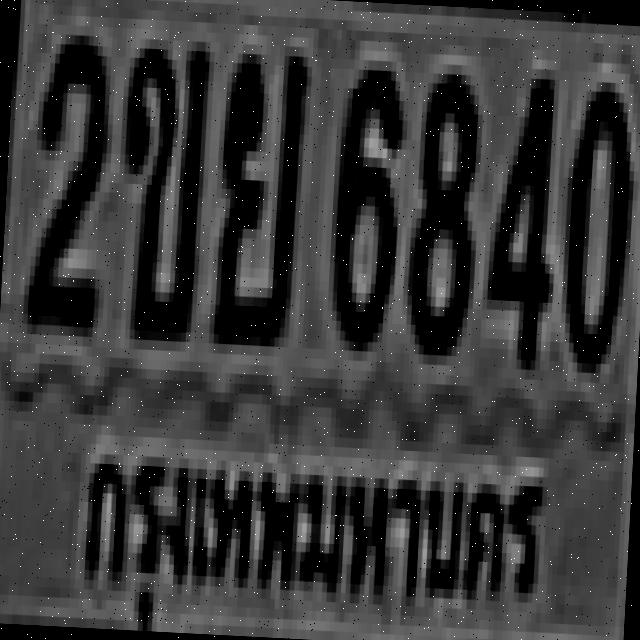0: (554, 70, 634, 364)
11KhorKhai: (112, 29, 206, 332)
2: (23, 24, 108, 318)
4: (484, 67, 556, 361)
43YorYak: (209, 43, 304, 338)
6: (326, 59, 402, 343)
8: (403, 63, 478, 347)
